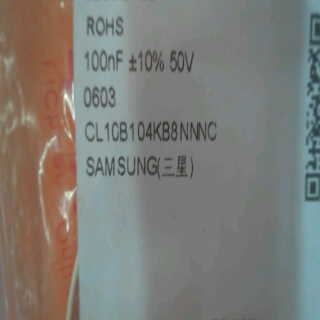100nF: (77, 50, 124, 75)
